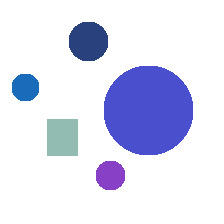circle: (104, 66, 192, 154), (69, 22, 107, 60), (96, 161, 124, 189), (12, 74, 38, 100)
rectangle: (47, 119, 77, 155)
